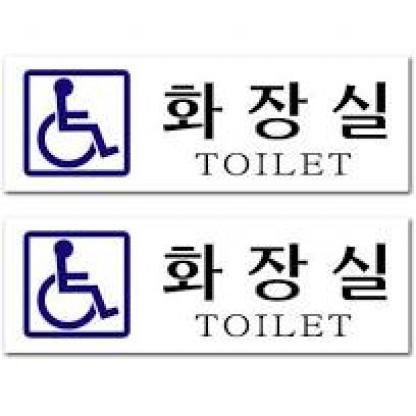toilet: (25, 68, 130, 176), (26, 233, 129, 335)
